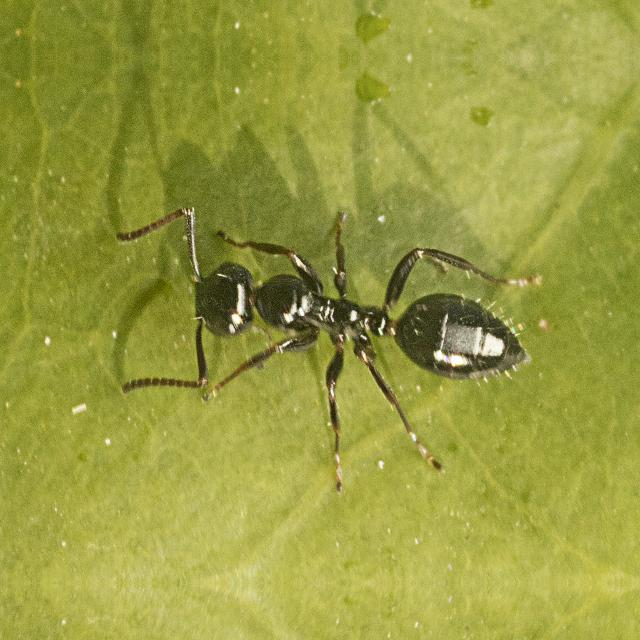Colobopsis: (132, 208, 548, 426)
